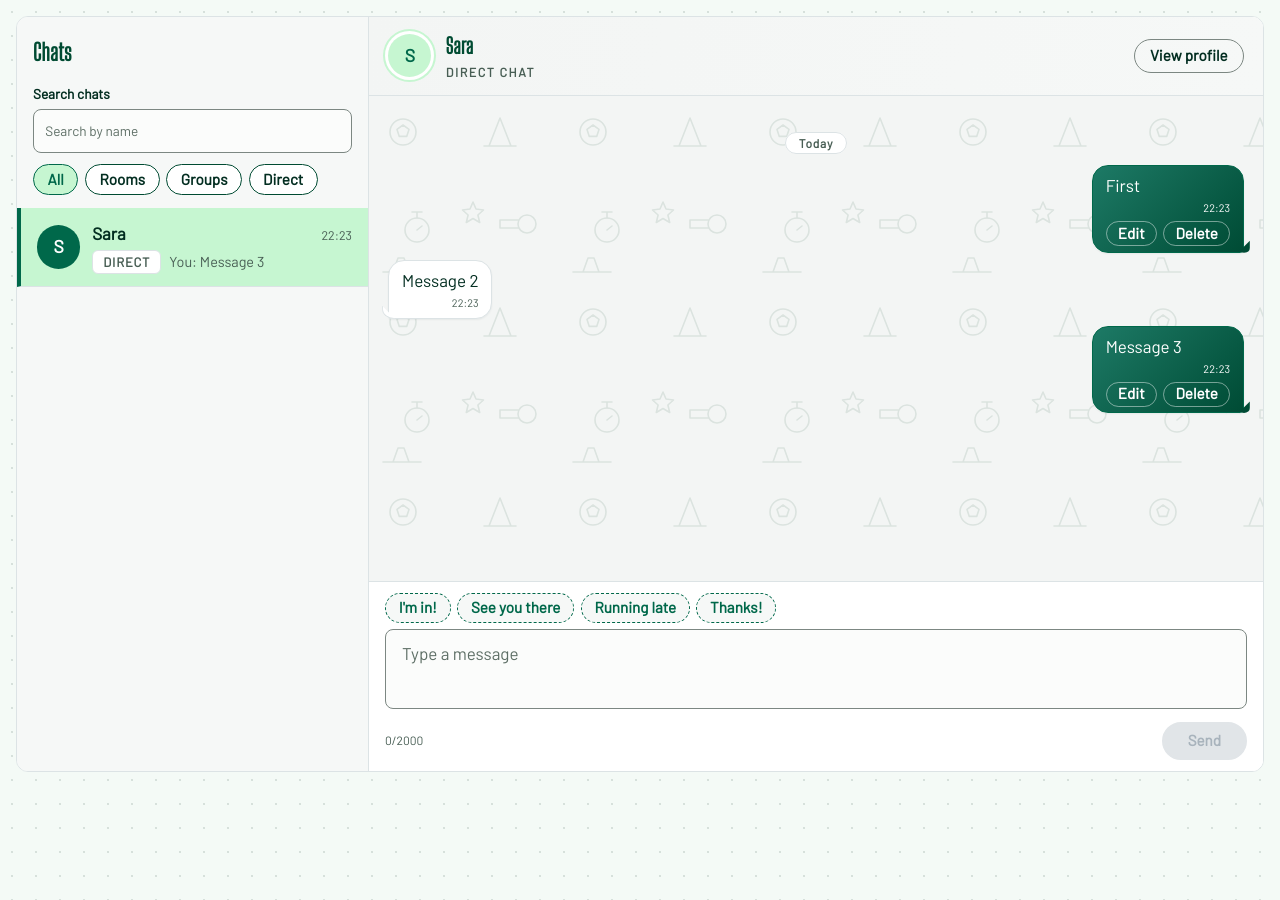
it: editing and deleting your own messages › edits inline, saves the trimmed text and marks the message "(edited)"
Expected: the text "Message 3" is shown, [1106,336,1182,356]
Click the button named "Edit message": (1131, 394) [1106,382,1157,407]
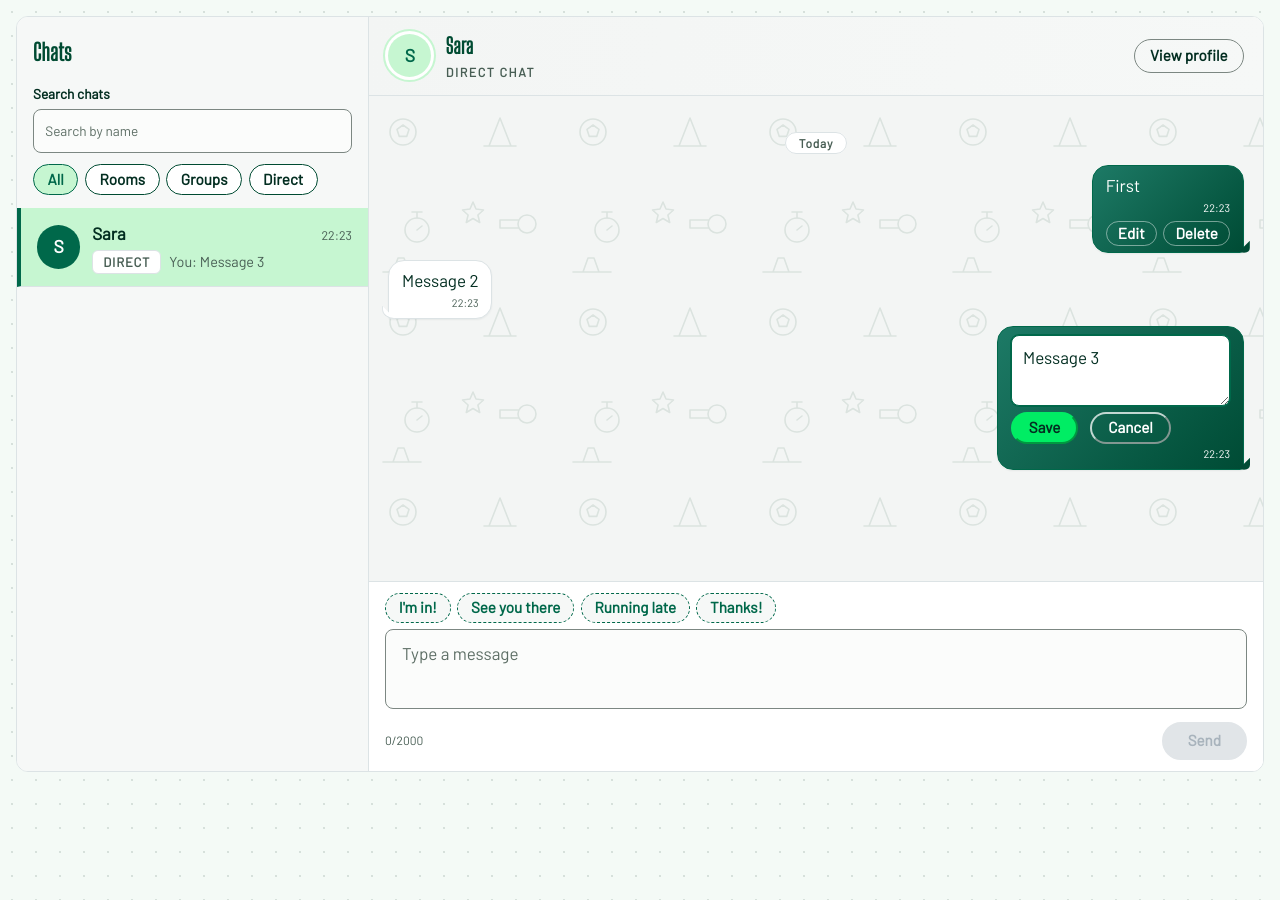
Expected: the text box named "Edit your message" holds "Message 3"
Replace the text in the text box named "Edit your message" with "  Better words  ": (1120, 370) [1011,335,1230,406]
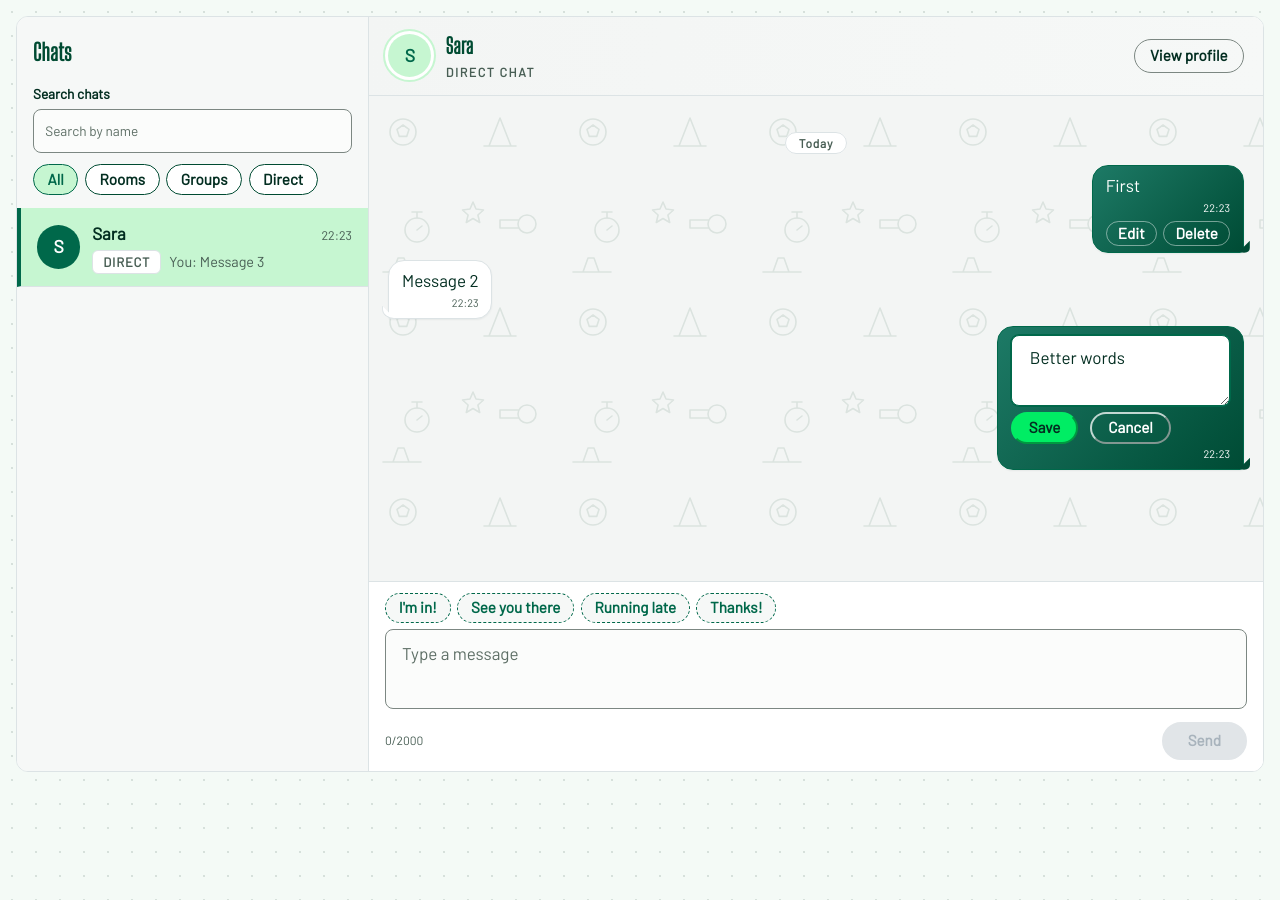
Click the button "Save": (1044, 428) [1011,412,1078,444]
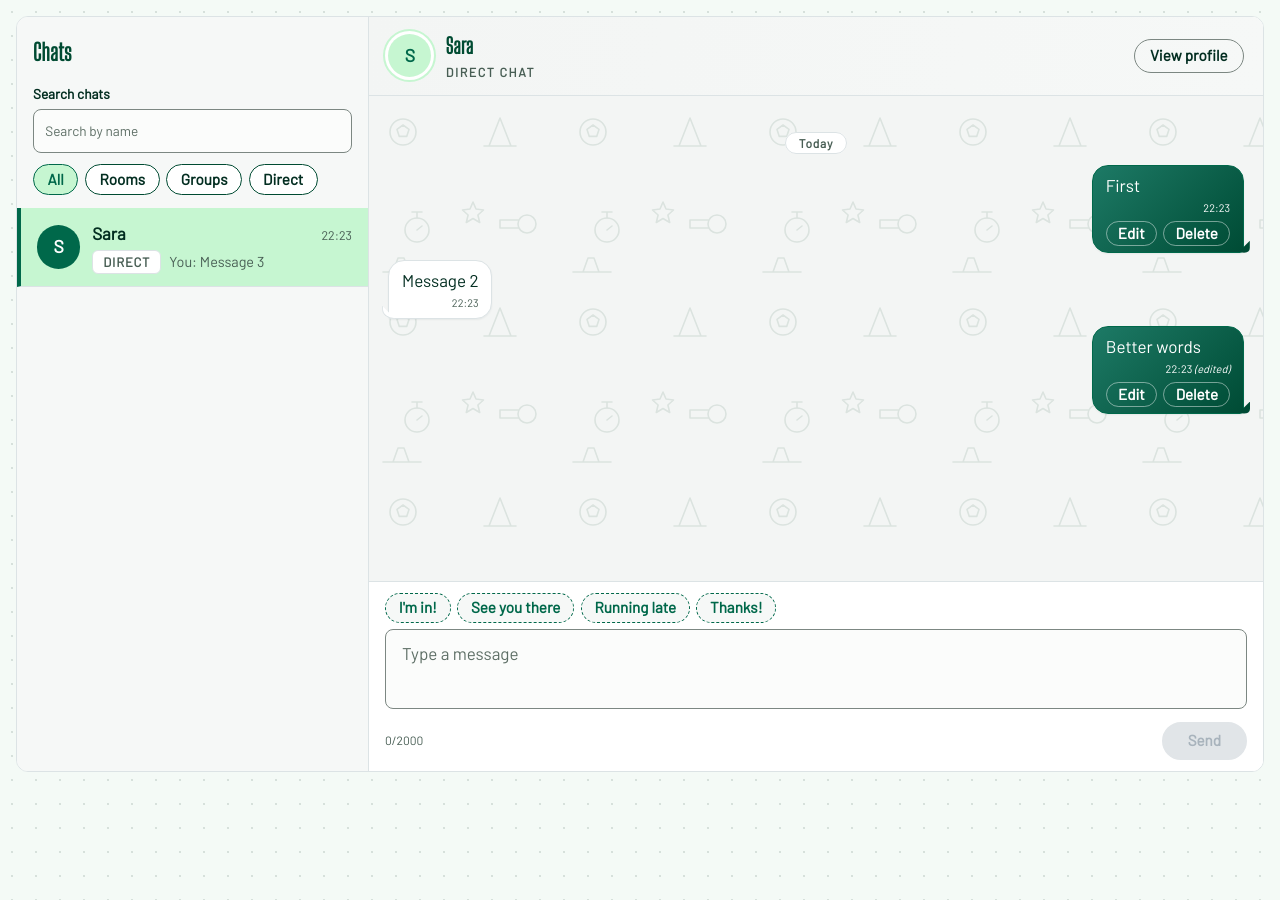
Expected: the field labelled "Edit your message" is not shown
Expected: the text "Better words" is shown, [1106,336,1201,356]
Expected: the text "(edited)" is shown, [1192,362,1230,375]
